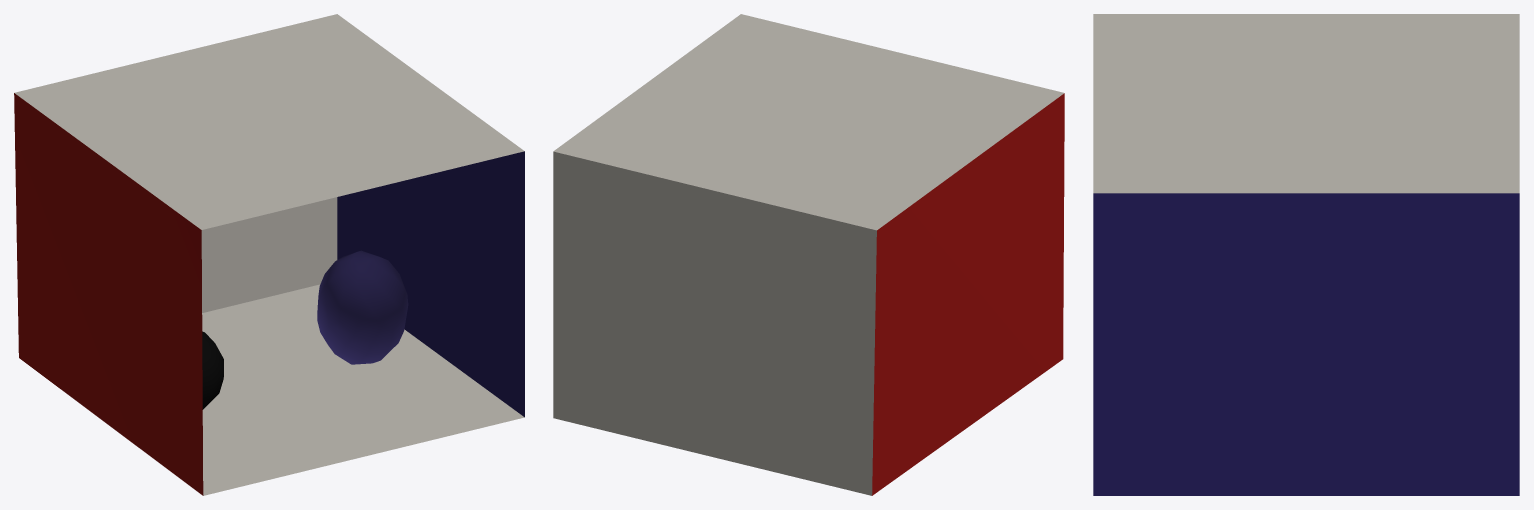
File: CornellBox-Ellipsoid-501.obj
The picture shows the model from 3 angles, left to right: view 1: azimuth 30°, elevation 25°; view 2: azimuth 150°, elevation 25°; view 3: azimuth 270°, elevation 25°; orthographic projection. The views are drawn at different scales.
Visible parts, largest first — view 1: ceiling, leftWall, floor, rightWall, backWall, leftSphere, rightSphere; view 2: backWall, ceiling, leftWall; view 3: rightWall, ceiling.
Boxes of the visible parts, x1=… form: ceiling: x1=14, y1=14, x2=524, y2=229; leftWall: x1=14, y1=93, x2=203, y2=495; floor: x1=202, y1=284, x2=524, y2=495; rightWall: x1=337, y1=151, x2=524, y2=417; backWall: x1=201, y1=197, x2=337, y2=312; leftSphere: x1=317, y1=250, x2=408, y2=364; rightSphere: x1=202, y1=331, x2=223, y2=409; backWall: x1=553, y1=151, x2=876, y2=495; ceiling: x1=553, y1=14, x2=1064, y2=230; leftWall: x1=872, y1=93, x2=1064, y2=495; rightWall: x1=1093, y1=193, x2=1519, y2=495; ceiling: x1=1093, y1=14, x2=1519, y2=193.
Size of the model in its own units: 2.02 by 1.59 by 2.03.
